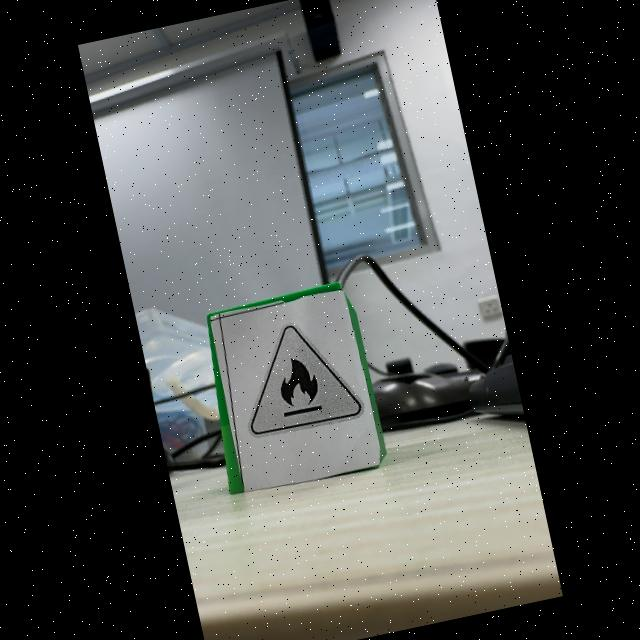Fire: (249, 324, 362, 435)
